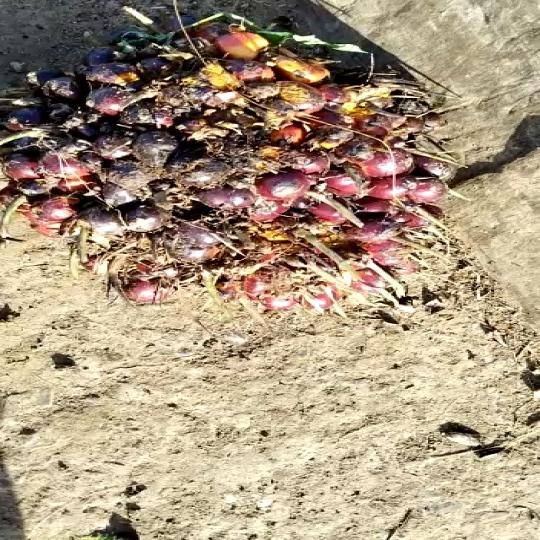masak: (0, 9, 446, 321)
